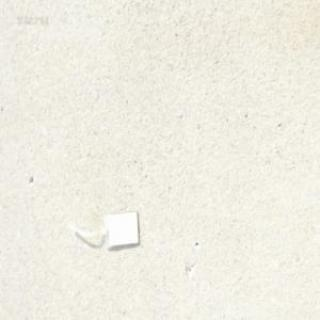LuggageTagtrack_idkeyframe: (68, 207, 141, 250)
